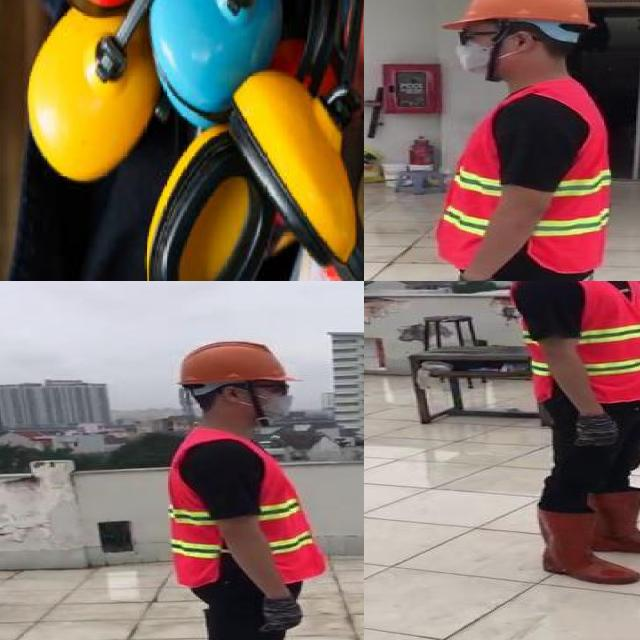Ear-protection: (119, 74, 364, 281), (5, 4, 162, 168), (157, 0, 311, 99)
boots: (532, 503, 640, 584), (594, 487, 640, 555)
face_mask: (450, 26, 511, 76), (240, 378, 302, 424)
hand_glove: (252, 594, 306, 634), (571, 413, 623, 450)
head_helmet: (173, 338, 294, 390), (442, 0, 596, 32)
person: (154, 332, 344, 640), (415, 0, 623, 281), (502, 281, 640, 595)
vest: (435, 82, 615, 279), (166, 424, 326, 588), (510, 281, 640, 404)
